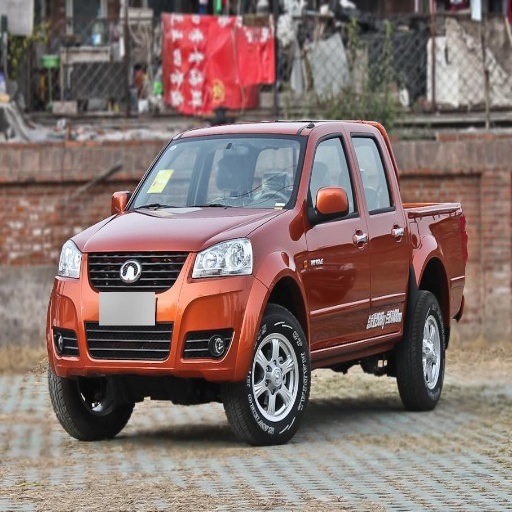front_bumper: (48, 250, 267, 378)
front_glass: (124, 140, 306, 212)
front_left_door: (304, 131, 376, 348)
trunk: (408, 209, 461, 302)
